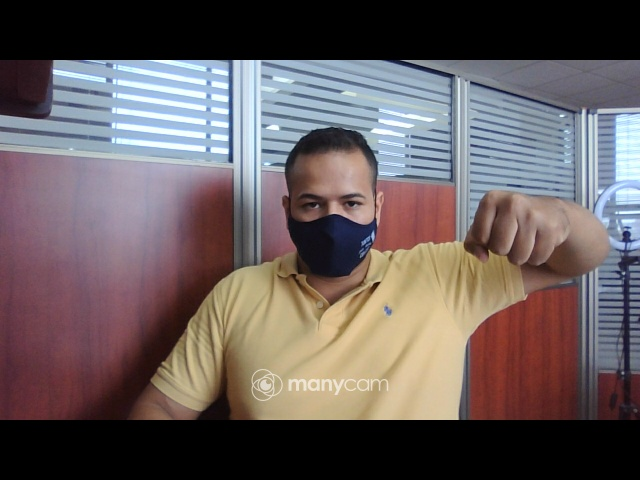Yes: (461, 186, 568, 279)
